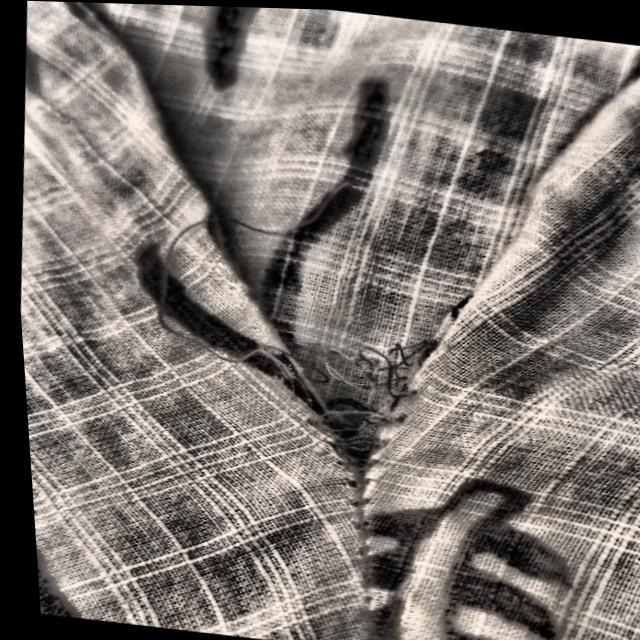Stitch: (100, 146, 458, 502)
